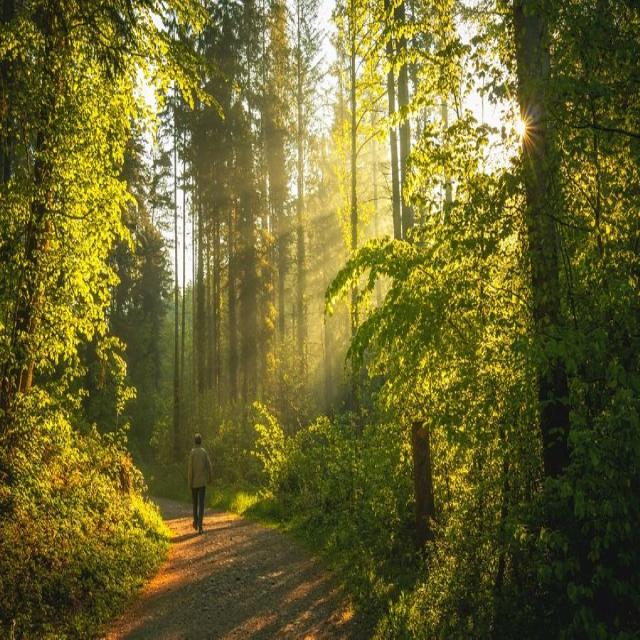Forest: (0, 0, 640, 640)
Militant: (184, 420, 220, 544)
